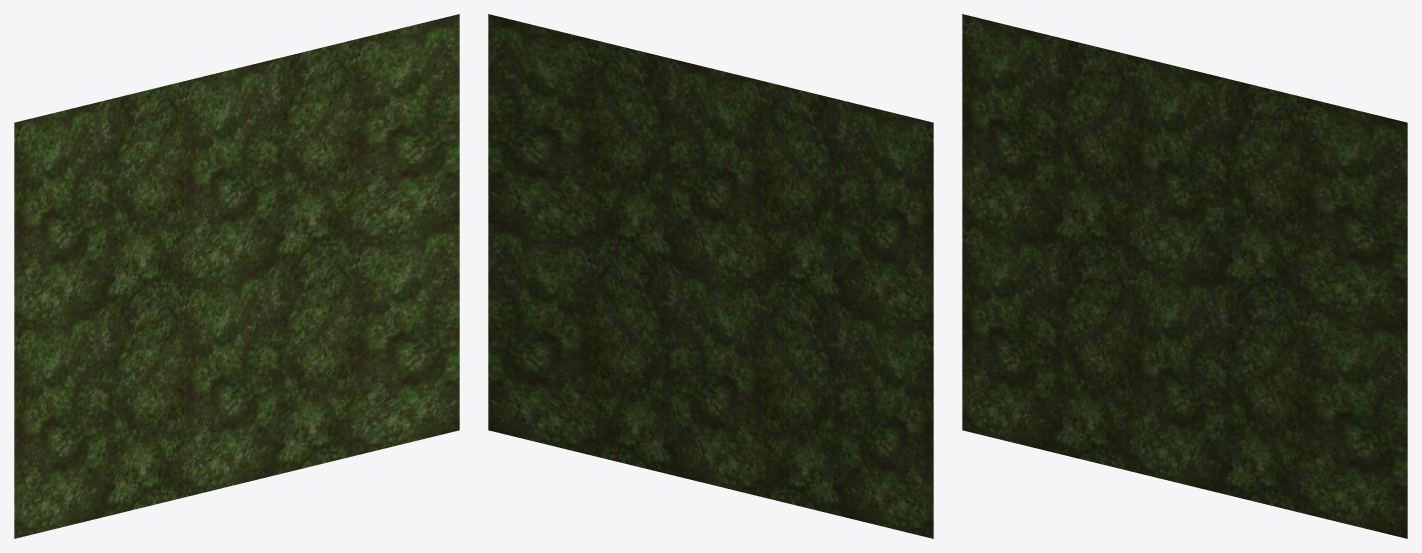
Rendered from OVERHILL_A_01_LINE196.fbx.
3 views of the same model, side by side, from view 1: azimuth 30°, elevation 25°; view 2: azimuth 150°, elevation 25°; view 3: azimuth 330°, elevation 25° (orthographic).
Parts seen in each view (by area): view 1: OVERHILL_A_01_LINE196; view 2: OVERHILL_A_01_LINE196; view 3: OVERHILL_A_01_LINE196.
Part boxes in pixels (x1=…): OVERHILL_A_01_LINE196: x1=14, y1=14, x2=459, y2=538; OVERHILL_A_01_LINE196: x1=488, y1=14, x2=933, y2=538; OVERHILL_A_01_LINE196: x1=962, y1=14, x2=1407, y2=538.
Size of the model in its own units: 70000 by 62500 by 0.0102.
Materials: 1 (1 with a texture image).
